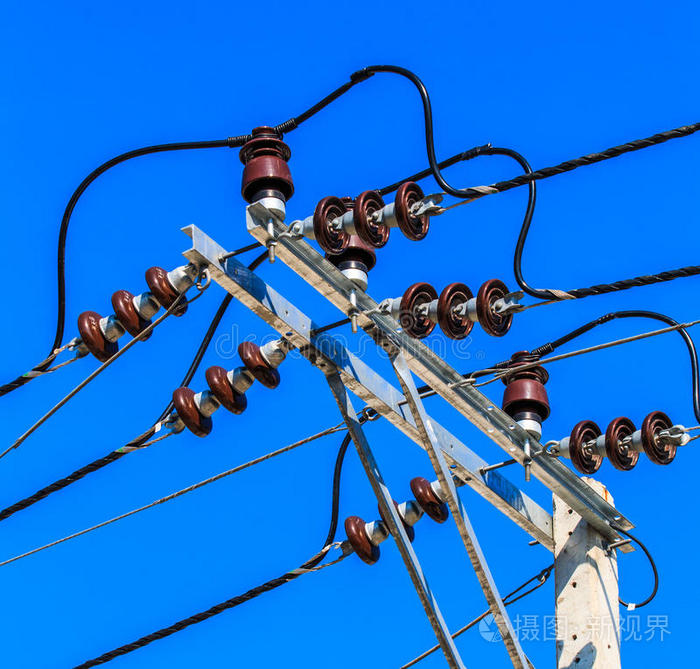insulator: (80, 267, 188, 363), (172, 343, 278, 438), (344, 477, 447, 566), (314, 181, 431, 255), (401, 279, 518, 338), (572, 410, 679, 471)
